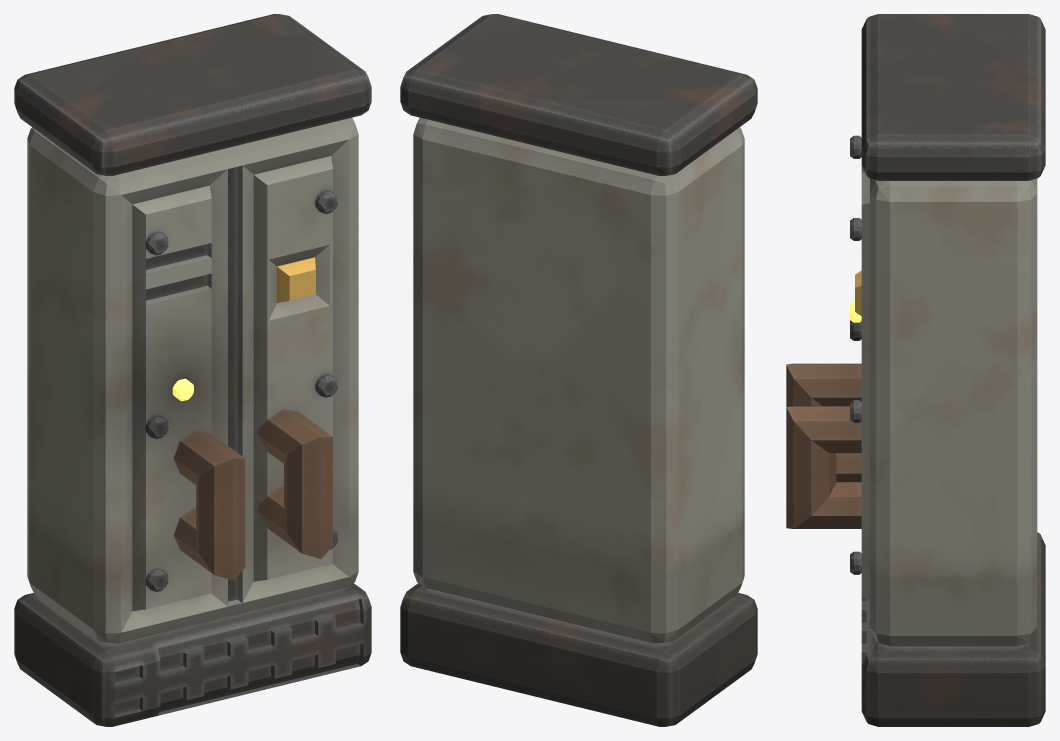
File: locker.glb
3 views of the same model, side by side, from view 1: azimuth 30°, elevation 25°; view 2: azimuth 150°, elevation 25°; view 3: azimuth 270°, elevation 25° (orthographic).
Visible parts, largest first — view 1: Locker; view 2: Locker; view 3: Locker.
Boxes of the visible parts, x1=… form: Locker: x1=14, y1=14, x2=371, y2=726; Locker: x1=400, y1=14, x2=757, y2=726; Locker: x1=786, y1=14, x2=1045, y2=726.
Size of the model in its own units: 1.9 by 3.9 by 1.55.
Materials: 1 (1 with a texture image).
